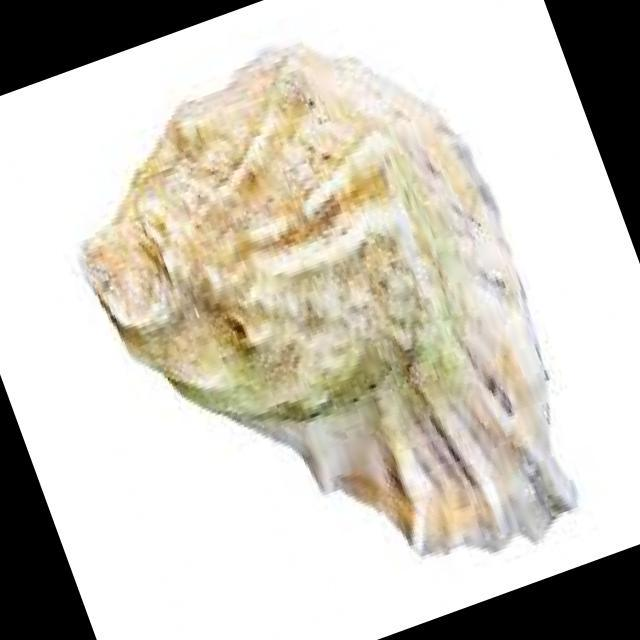Oyster- Indeterminate: (85, 45, 575, 554)
